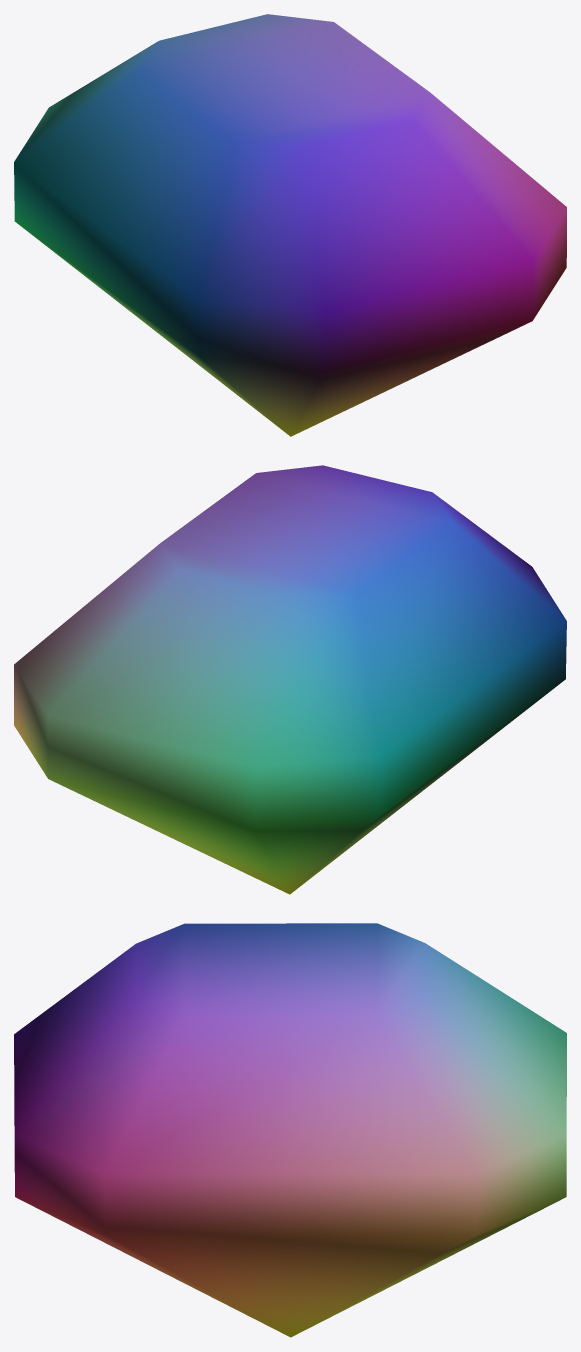
File: SM_Pickup_Gem_Emerald_2.fbx
3 renders of one model, top to bottom at view 1: azimuth 30°, elevation 25°; view 2: azimuth 150°, elevation 25°; view 3: azimuth 270°, elevation 25°, orthographic.
Visible parts, largest first — view 1: SM_Pickup_Gem_Emerald_2; view 2: SM_Pickup_Gem_Emerald_2; view 3: SM_Pickup_Gem_Emerald_2.
Part boxes in pixels (left/top/right/bottom): SM_Pickup_Gem_Emerald_2: left=14, top=14, right=566, bottom=436; SM_Pickup_Gem_Emerald_2: left=14, top=465, right=566, bottom=894; SM_Pickup_Gem_Emerald_2: left=14, top=923, right=566, bottom=1337.
Bounding box in the file's own units: 0.0985 × 0.0929 × 0.1282.
